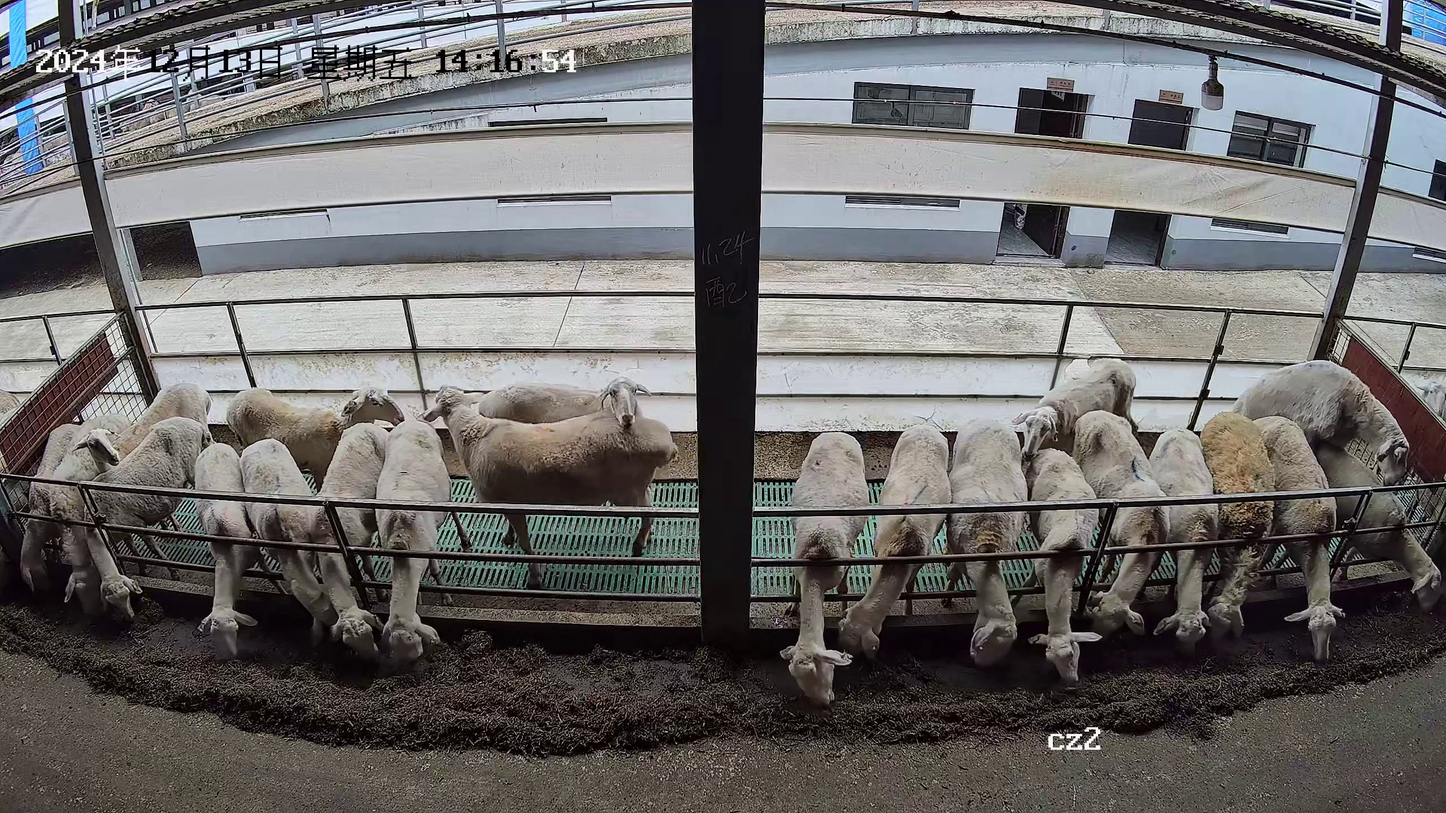Smounting: (1223, 357, 1446, 619)
mounted: (1306, 434, 1443, 615)
